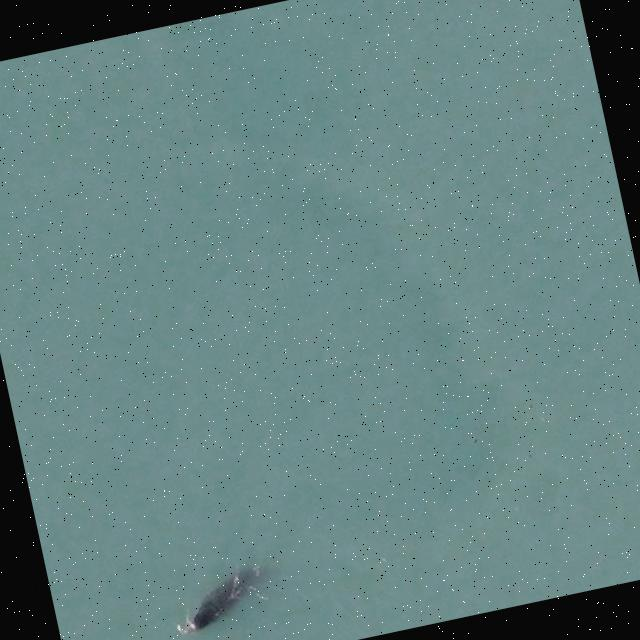seal: (179, 552, 269, 640)
